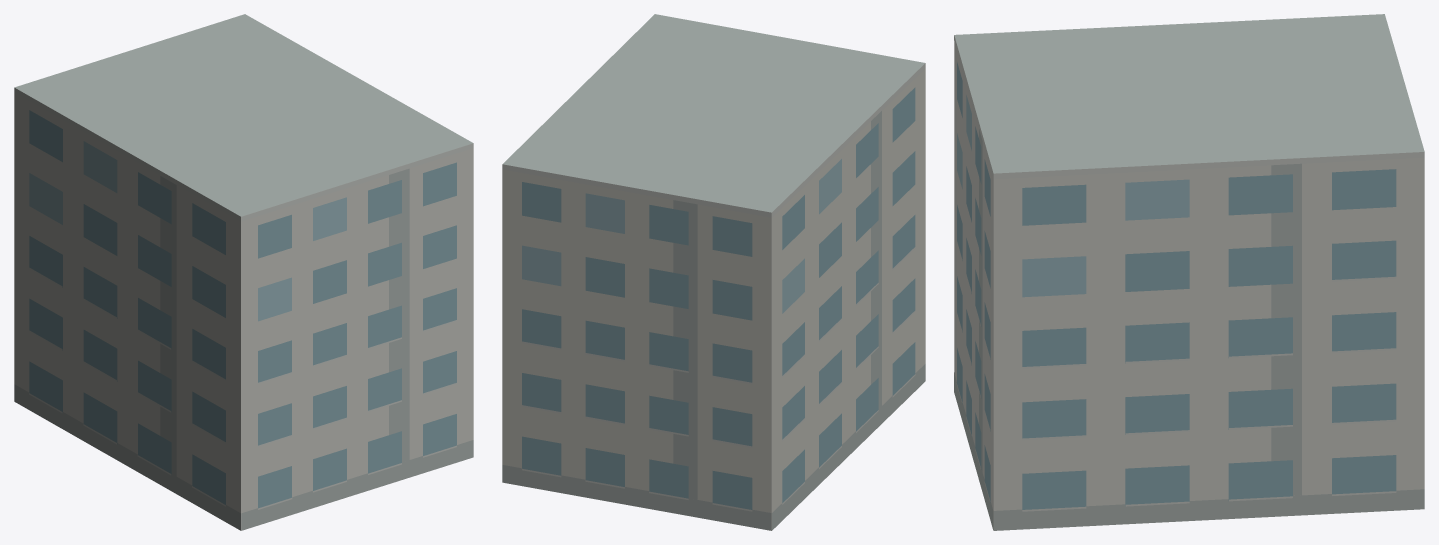
File: survey-upis-32906195.glb
The picture shows the model from 3 angles, left to right: view 1: azimuth 30°, elevation 25°; view 2: azimuth 150°, elevation 25°; view 3: azimuth 270°, elevation 25°; orthographic projection. The views are drawn at different scales.
Parts seen in each view (by area): view 1: survey-upis-32906195.tmp; view 2: survey-upis-32906195.tmp; view 3: survey-upis-32906195.tmp.
Part boxes in pixels (bbox=[...]): survey-upis-32906195.tmp: bbox=[14, 14, 473, 530]; survey-upis-32906195.tmp: bbox=[502, 14, 925, 530]; survey-upis-32906195.tmp: bbox=[954, 14, 1424, 530].
Bounding box in the file's own units: 14.66 × 15.3 × 18.27.
